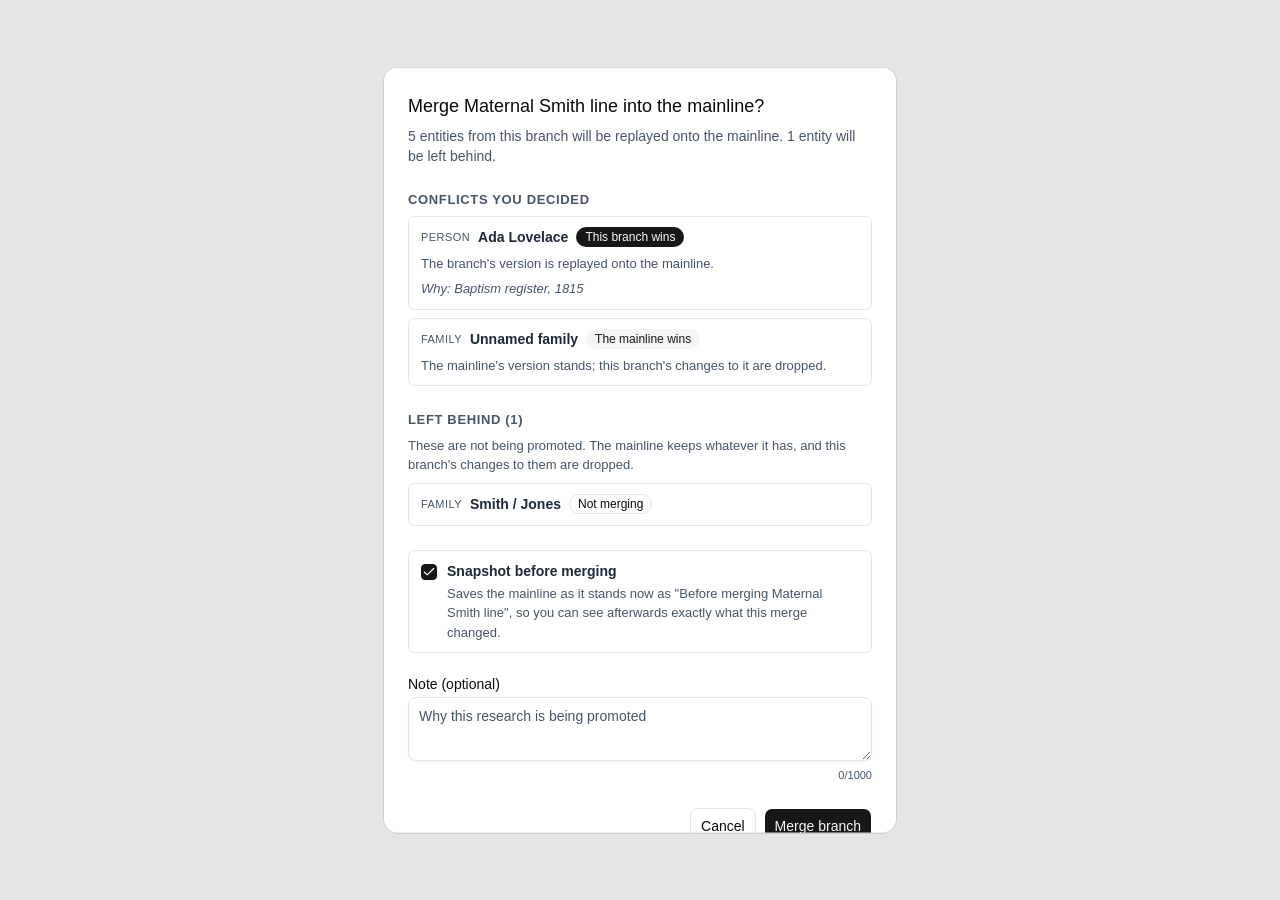
it: MergeConfirmDialog › refusals › merge_conflicts renders its own copy, the server message, and a retry only when retrying is the fix
Step 1. Click the button "Merge branch" → (818, 825), box top-left (764, 807), bottom-right (872, 843)
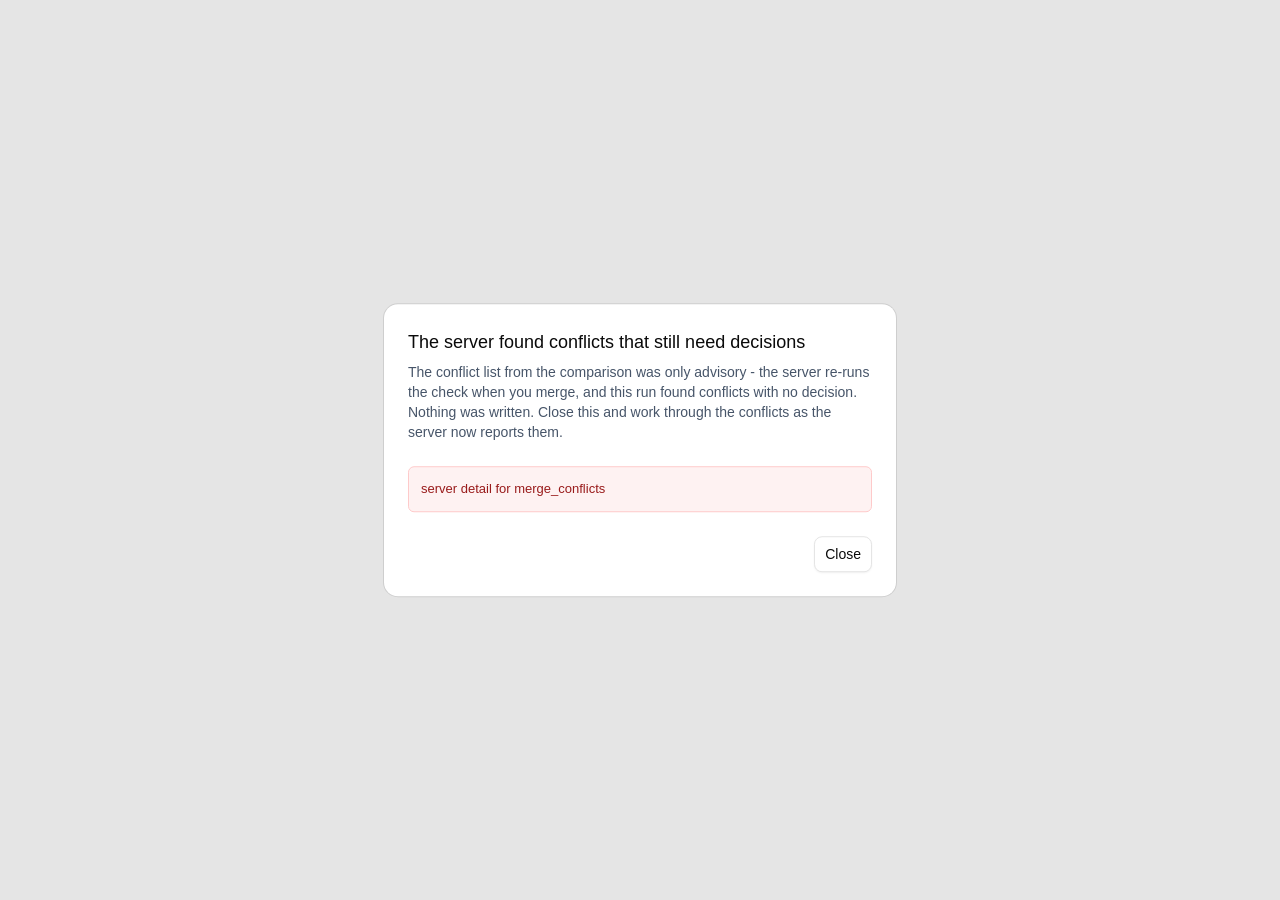
Result: the heading "The server found conflicts that still need decisions" is shown at top-left (408, 328), bottom-right (805, 356)
Result: the text "The conflict list from the comparison was only advisory - the server re-runs the check when you merge, and this run foun" is shown at top-left (408, 364), bottom-right (869, 440)
